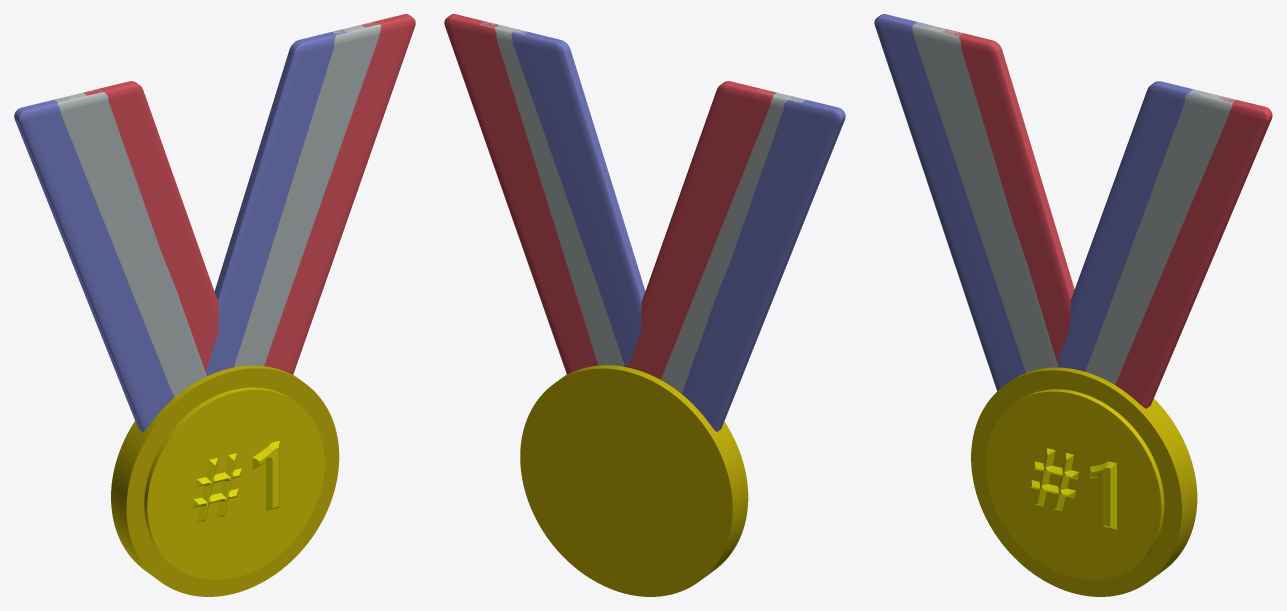
The model's file is gold_medal_no_shine.glb.
3 renders of one model, left to right at view 1: azimuth 30°, elevation 25°; view 2: azimuth 150°, elevation 25°; view 3: azimuth 330°, elevation 25°, orthographic.
Parts seen in each view (by area): view 1: Object_13, Object_7, Object_11, Object_9, Object_5; view 2: Object_5, Object_13, Object_9, Object_11; view 3: Object_7, Object_11, Object_9, Object_13, Object_5.
Part boxes in pixels (x1,y1,x2,y2): Object_13: [14, 29, 347, 431]; Object_7: [144, 387, 324, 580]; Object_11: [54, 21, 381, 397]; Object_9: [83, 14, 415, 374]; Object_5: [111, 365, 339, 596]; Object_5: [520, 365, 748, 596]; Object_13: [511, 29, 845, 431]; Object_9: [444, 14, 776, 379]; Object_11: [480, 21, 805, 393]; Object_7: [985, 389, 1164, 580]; Object_11: [912, 22, 1236, 384]; Object_9: [942, 29, 1272, 408]; Object_13: [874, 14, 1201, 391]; Object_5: [971, 367, 1197, 596].
Bounding box in the file's own units: 0.1847 × 0.2348 × 0.0171.
3 materials, 1 textured.
